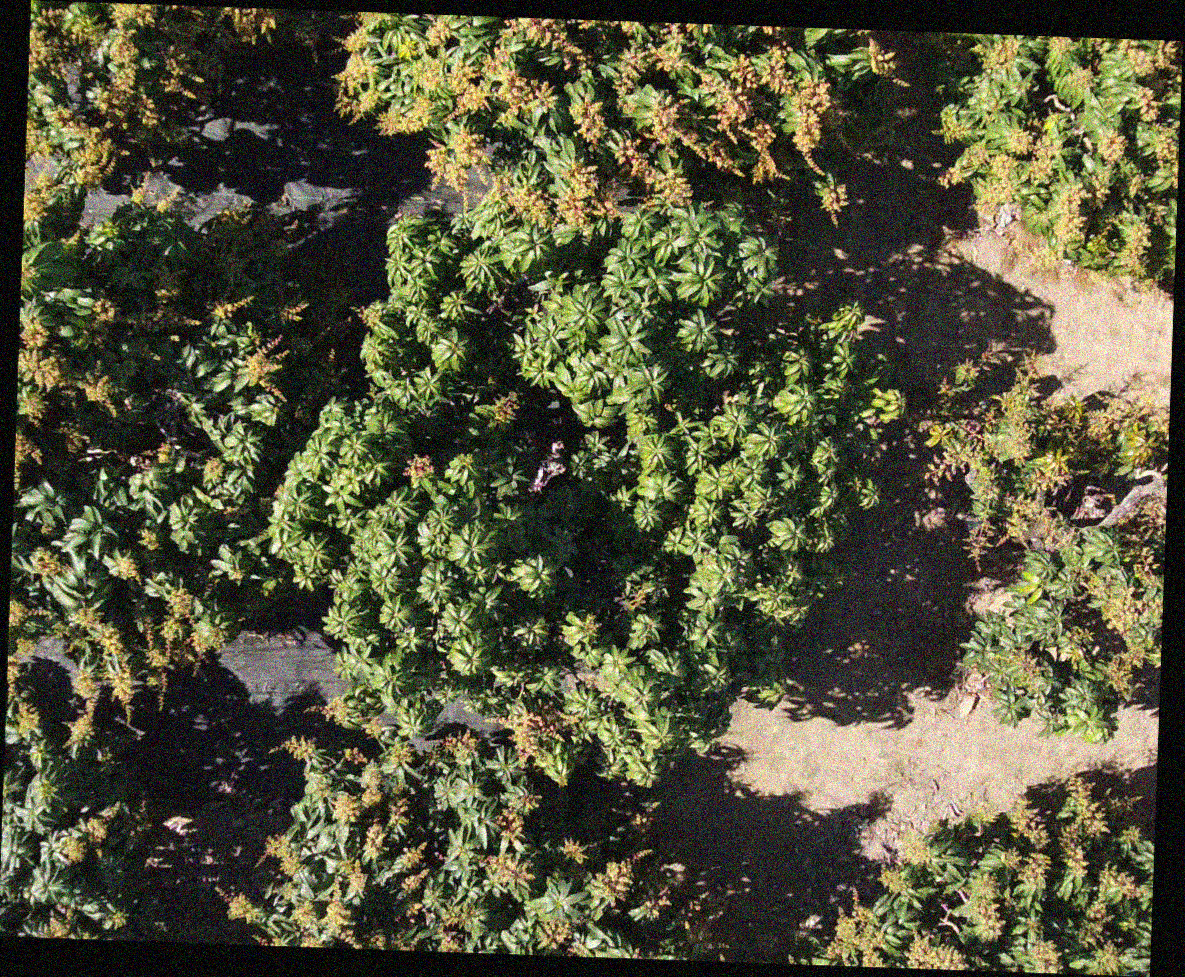flowers: (918, 407, 1072, 559), (16, 319, 116, 453), (673, 54, 779, 180), (573, 21, 709, 100), (142, 587, 227, 709), (488, 161, 621, 233), (93, 3, 168, 129), (760, 47, 831, 171), (1063, 397, 1168, 479), (1054, 777, 1139, 876), (289, 886, 420, 948), (1098, 575, 1160, 700), (966, 130, 1061, 207), (584, 848, 681, 921), (499, 704, 584, 783), (67, 607, 134, 707), (1078, 865, 1137, 975), (150, 5, 216, 100), (28, 1, 107, 79), (52, 110, 119, 190), (613, 139, 693, 204), (16, 319, 64, 426), (483, 59, 556, 125), (502, 18, 591, 71), (306, 763, 382, 824), (826, 890, 885, 966), (334, 23, 380, 119), (1002, 648, 1059, 724), (142, 270, 201, 341), (397, 14, 451, 89), (424, 127, 487, 191), (60, 800, 118, 863), (1118, 502, 1164, 580), (963, 873, 1011, 941), (1113, 221, 1157, 292), (363, 793, 407, 861), (5, 654, 40, 737), (244, 334, 286, 400), (1117, 39, 1181, 78), (446, 62, 489, 120), (66, 669, 98, 746), (1052, 184, 1087, 254), (377, 94, 431, 136), (495, 793, 539, 843), (1008, 796, 1049, 849), (220, 7, 278, 44), (906, 935, 967, 969), (257, 834, 304, 877), (866, 39, 909, 86), (966, 577, 1012, 620), (26, 911, 99, 938), (81, 362, 116, 416), (568, 95, 605, 146), (437, 903, 474, 952), (998, 372, 1035, 421), (1001, 850, 1050, 885), (973, 34, 1018, 72), (541, 920, 588, 956), (482, 855, 534, 887), (1153, 121, 1178, 186), (13, 433, 41, 491), (400, 841, 429, 896), (292, 9, 321, 61), (649, 95, 678, 145), (816, 184, 848, 226), (23, 173, 49, 224), (304, 695, 348, 724), (218, 891, 257, 923), (28, 547, 67, 578), (8, 599, 47, 630), (484, 390, 519, 424), (439, 729, 478, 759), (936, 107, 968, 143), (1150, 121, 1178, 162), (1029, 940, 1063, 973), (25, 119, 51, 162), (211, 294, 253, 320), (269, 736, 314, 760), (337, 859, 366, 894), (1096, 132, 1125, 166), (403, 454, 433, 486), (109, 554, 140, 583), (625, 581, 654, 612), (630, 947, 698, 959), (354, 301, 381, 328), (559, 838, 586, 864), (877, 868, 905, 893), (155, 186, 180, 213), (278, 300, 308, 322), (1067, 66, 1092, 92), (130, 172, 149, 204), (201, 457, 224, 483), (388, 743, 413, 765), (937, 166, 963, 187), (137, 528, 159, 551), (360, 717, 383, 739), (1047, 36, 1072, 56), (20, 262, 37, 289), (437, 934, 462, 952), (342, 748, 368, 764), (108, 910, 128, 930), (751, 26, 784, 36), (1120, 825, 1139, 842), (170, 5, 198, 15), (254, 937, 283, 945), (853, 29, 871, 36)
